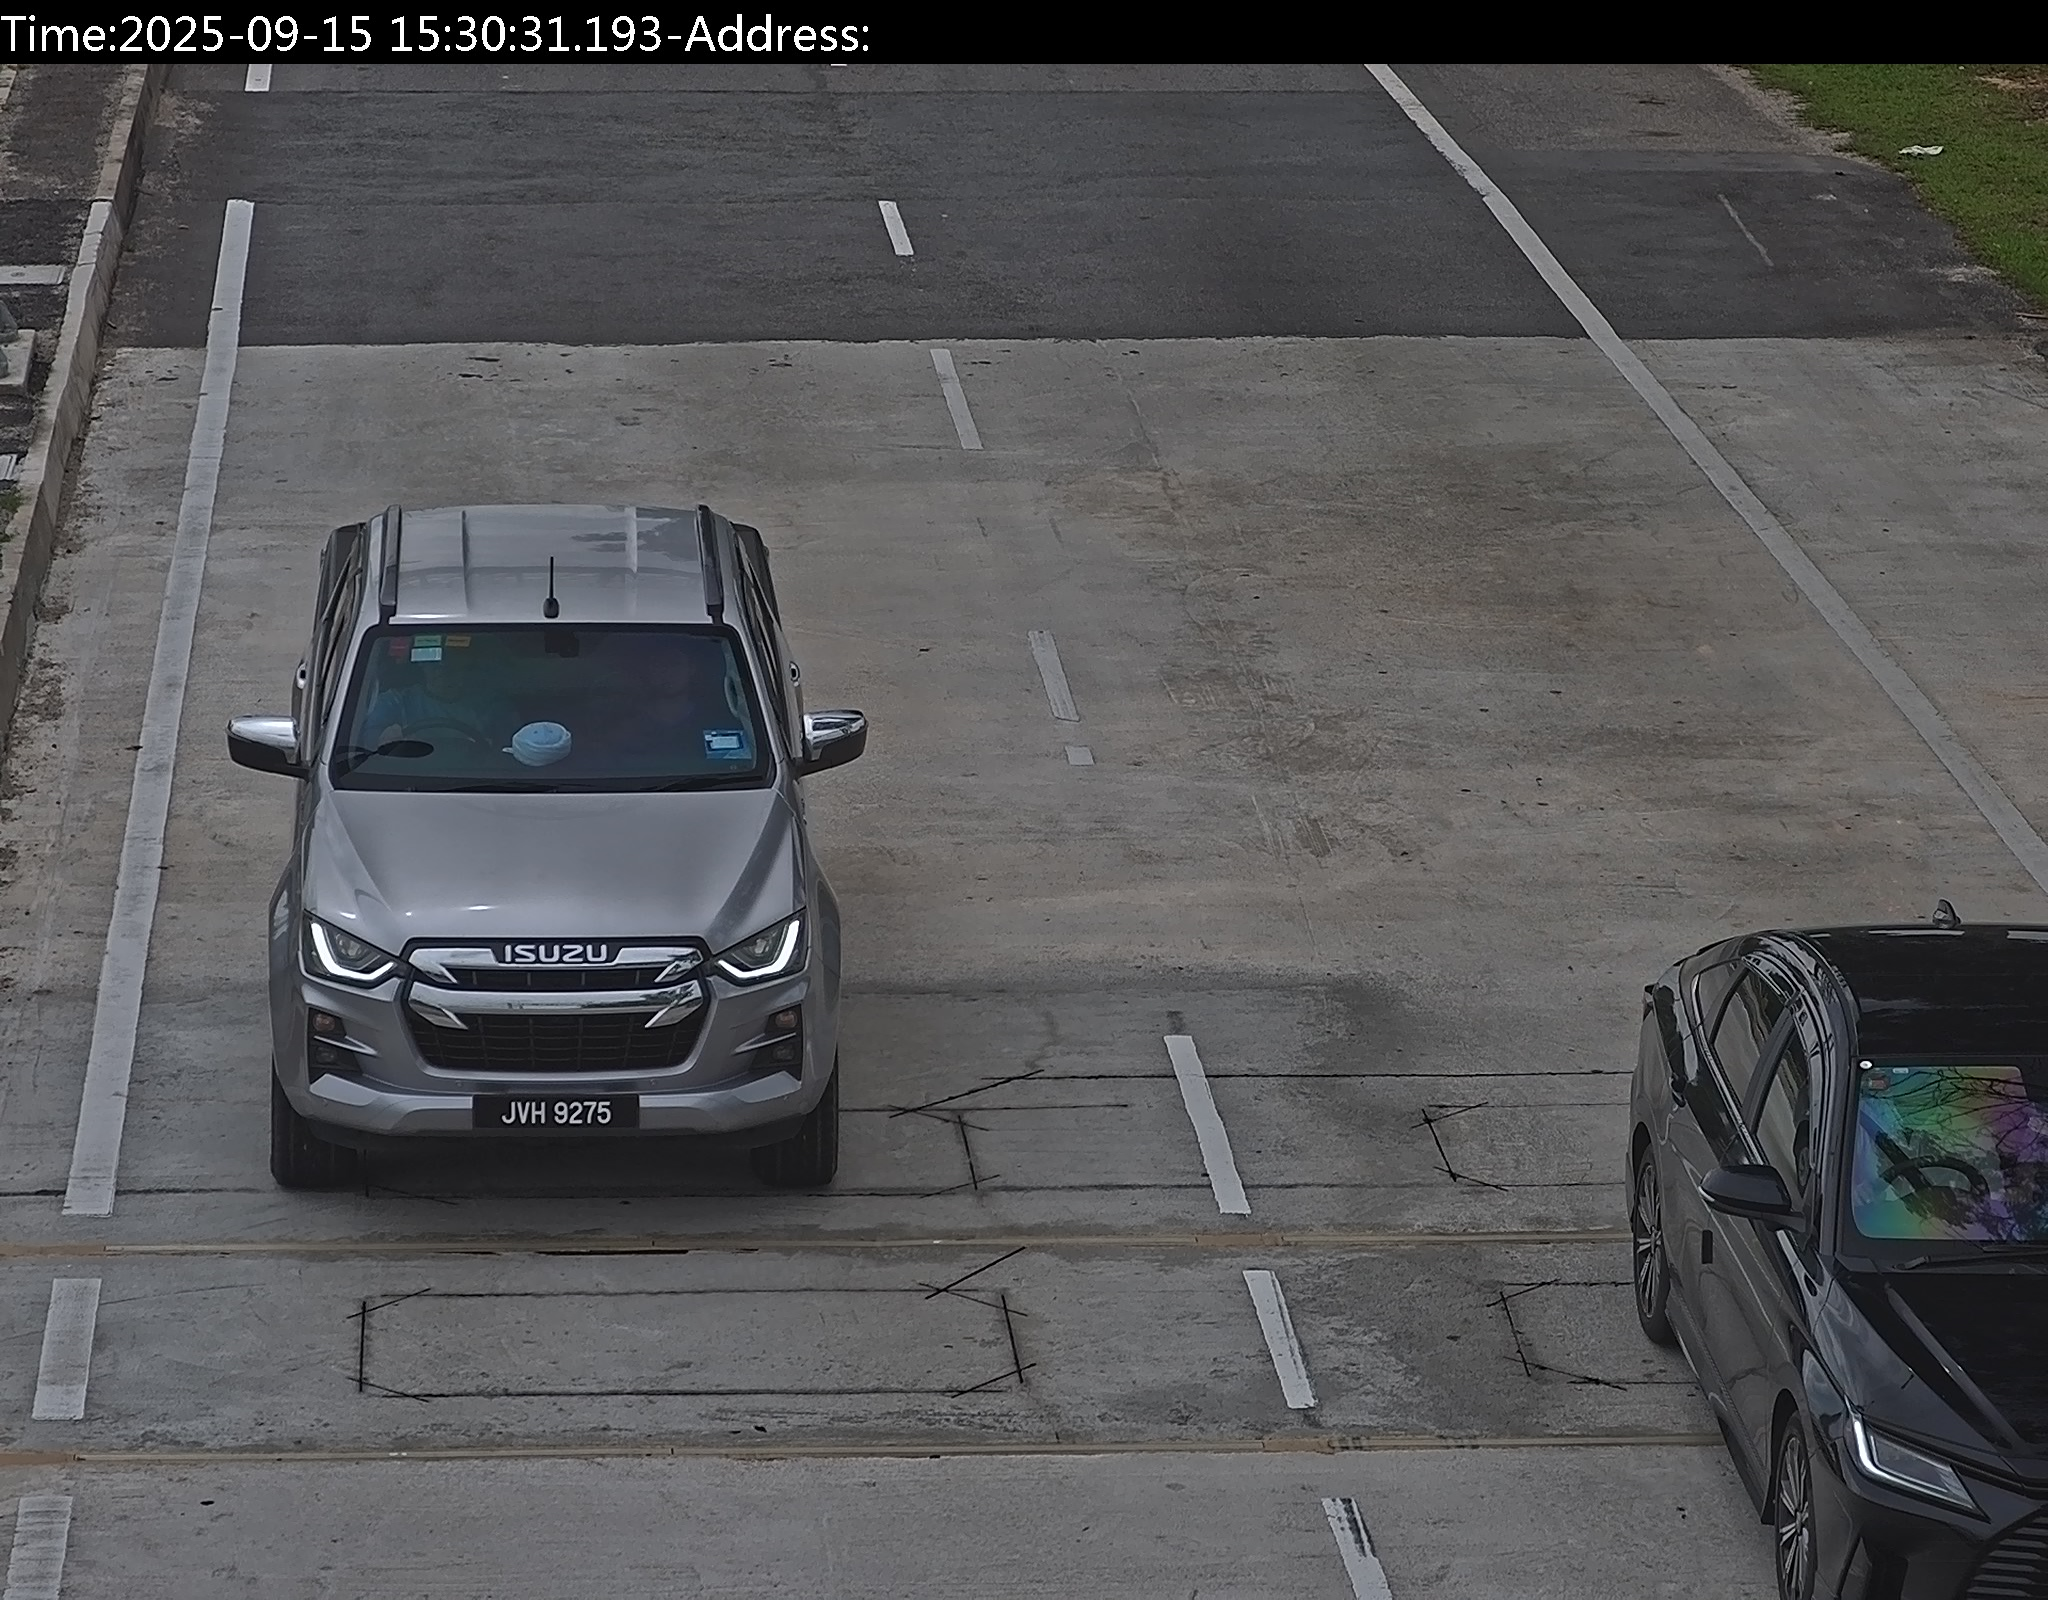class2_mediumVehicle: (266, 500, 840, 1186)
license_plate: (492, 1095, 619, 1128)
